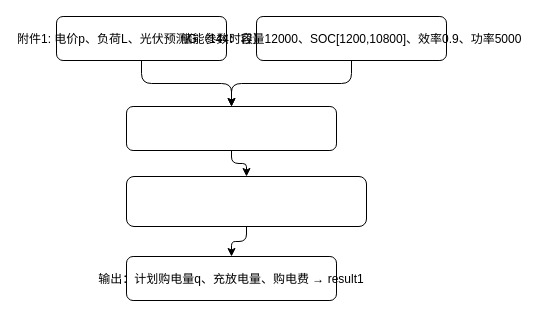
Some shapes in this 538 by 317 pixel diagram are drawn without their labels. The shapes that lost their labels are listed below. From the top down, each one's box as (x1, y1, x2, y2) in pixels, then its label:
(126, 106, 336, 150): 0:00制定日前计划（LP：min Σp·q）
(126, 176, 366, 226): 约束：功率平衡、储能SOC递推、充放互斥(天然)、首末SOC=6000、购电≥0、弃光≥0
